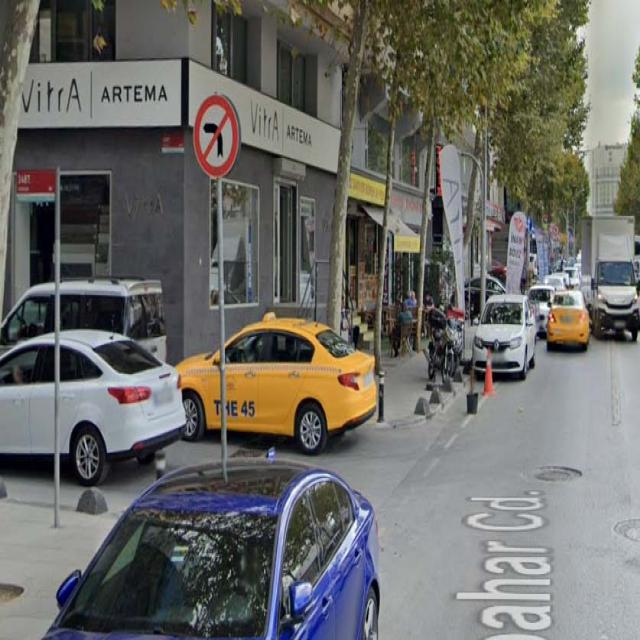soladonulmez: (192, 95, 238, 178)
